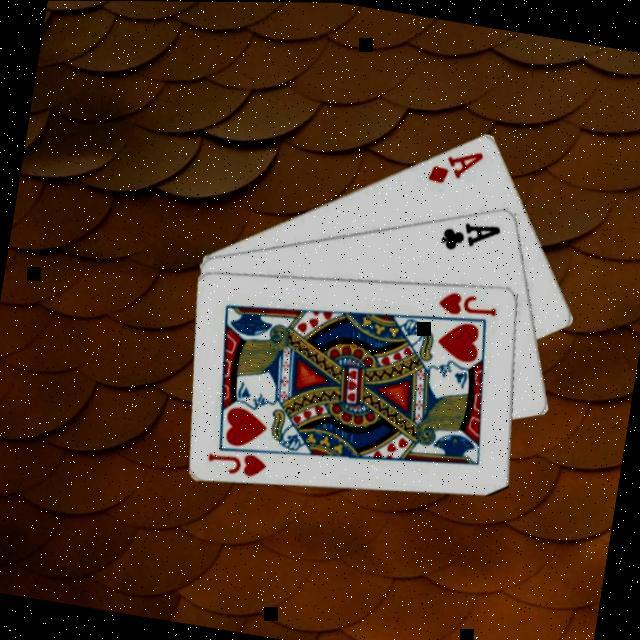AC: (434, 210, 504, 258)
AD: (422, 136, 486, 190)
JH: (432, 282, 500, 320), (202, 442, 268, 479)
